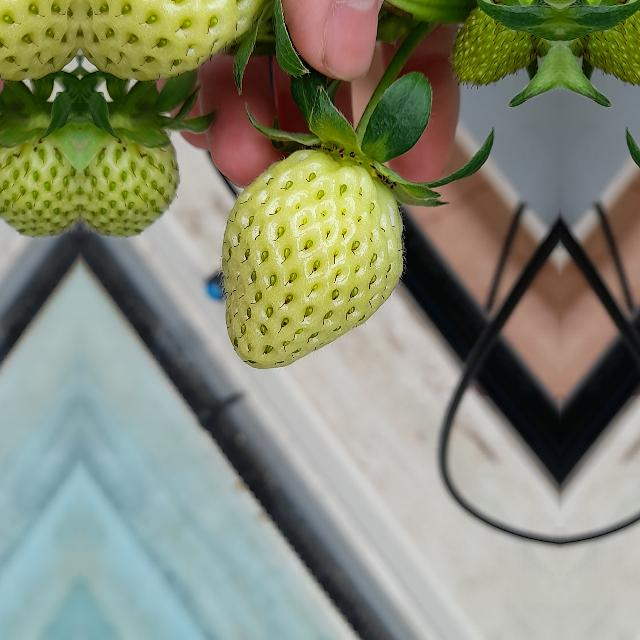Health_25: (222, 150, 402, 368), (80, 93, 184, 251), (79, 0, 272, 80), (0, 93, 80, 251), (451, 0, 539, 86), (0, 0, 80, 80), (581, 0, 640, 86)
